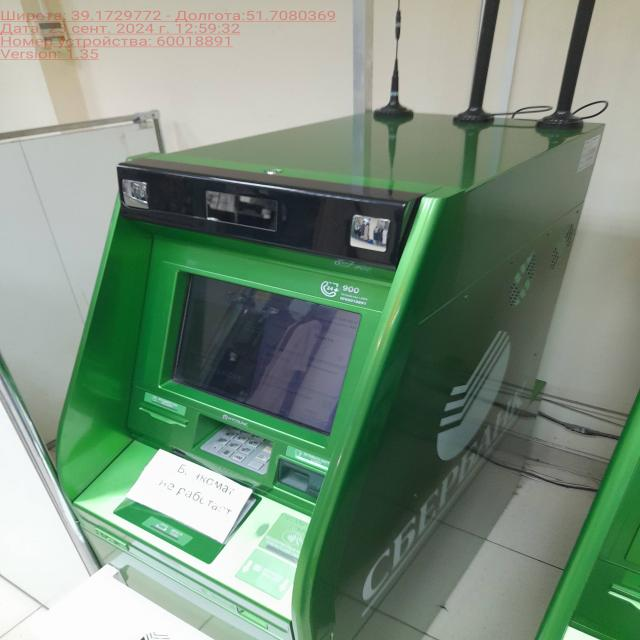bank: (51, 98, 602, 640)
